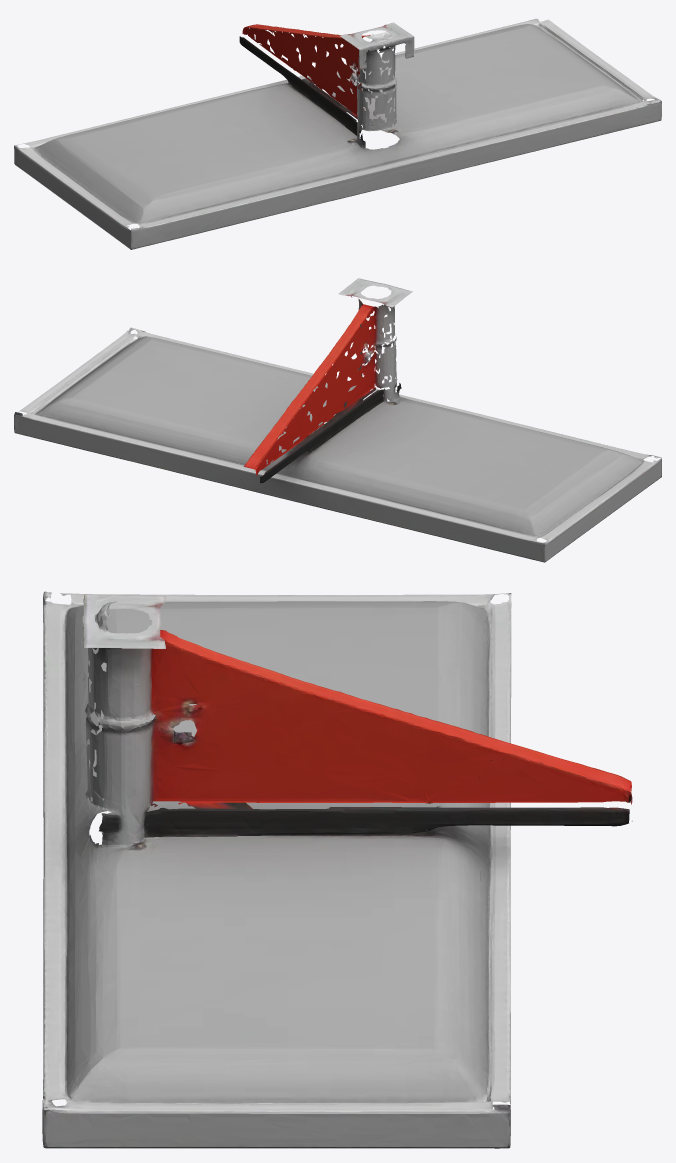
3 renders of one model, top to bottom at view 1: azimuth 30°, elevation 25°; view 2: azimuth 150°, elevation 25°; view 3: azimuth 270°, elevation 25°, orthographic. The views are drawn at different scales.
Visible parts, largest first — view 1: geometry_0; view 2: geometry_0; view 3: geometry_0.
Part boxes in pixels (x1=…): geometry_0: x1=14, y1=18, x2=661, y2=249; geometry_0: x1=14, y1=278, x2=661, y2=562; geometry_0: x1=42, y1=591, x2=632, y2=1148.
Bounding box in the file's own units: 1 × 0.2539 × 0.4824.
Materials: 1 (1 with a texture image).
